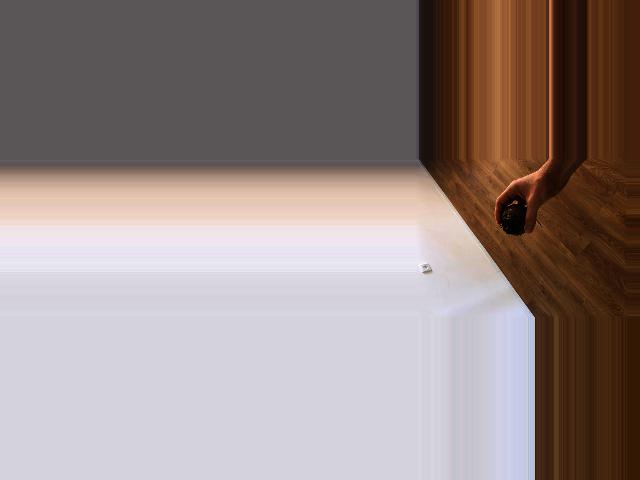beet: (500, 204, 541, 236)
